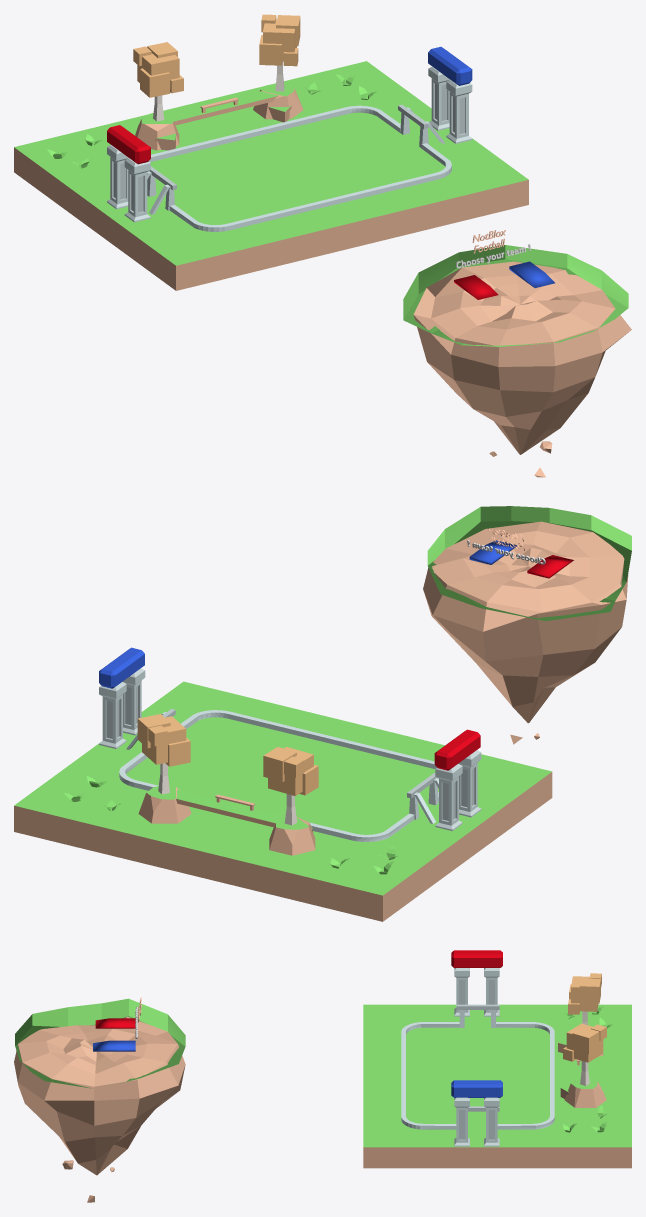
Rendered from Stadium.glb.
3 renders of one model, top to bottom at view 1: azimuth 30°, elevation 25°; view 2: azimuth 150°, elevation 25°; view 3: azimuth 270°, elevation 25°, orthographic. The views are drawn at different scales.
Parts seen in each view (by area): view 1: cliff_blockQuarter_rock.002, Island, Green_platform, wall-round, tree_blocks_fall.001, tree_blocks_fall.002, statue_column.003, statue_column.001, cliff_blockQuarter_rock.001, statue_column.002, statue_column, Cube.003 (+4 smaller); view 2: cliff_blockQuarter_rock.002, Island, Green_platform, wall-round, tree_blocks_fall.001, tree_blocks_fall.002, cliff_blockQuarter_rock.001, rock_smallD, statue_column, rock_smallD.001, statue_column.002, statue_column.003 (+6 smaller); view 3: cliff_blockQuarter_rock.002, Island, Green_platform, wall-round, tree_blocks_fall.002, tree_blocks_fall.001, Cube.013, Cube.003, rock_smallD.001, statue_column, statue_column.001, statue_column.003 (+3 smaller).
Boxes of the visible parts, x1,y1,x2,y2 form: cliff_blockQuarter_rock.002: (14,61,528,290); Island: (413,261,631,477); Green_platform: (403,245,628,346); wall-round: (149,105,451,231); tree_blocks_fall.001: (133,42,183,121); tree_blocks_fall.002: (259,14,300,91); statue_column.003: (124,158,150,222); statue_column.001: (446,79,472,143); cliff_blockQuarter_rock.001: (168,91,278,125); statue_column.002: (107,145,128,209); statue_column: (428,66,449,130); Cube.003: (428,46,472,85); cliff_blockQuarter_rock.002: (14,681,552,921); Island: (423,521,628,744); Green_platform: (427,506,631,621); wall-round: (119,710,438,841); tree_blocks_fall.001: (263,747,318,825); tree_blocks_fall.002: (137,714,190,794); cliff_blockQuarter_rock.001: (176,789,285,827); rock_smallD: (269,816,315,855); statue_column: (99,682,126,748); rock_smallD.001: (138,785,191,823); statue_column.002: (435,764,462,830); statue_column.003: (458,750,481,817); cliff_blockQuarter_rock.002: (363,1004,631,1168); Island: (14,1016,185,1202); Green_platform: (15,998,185,1088); wall-round: (401,1022,554,1129); tree_blocks_fall.002: (563,1023,606,1085); tree_blocks_fall.001: (568,973,601,1025); Cube.013: (451,950,502,967); Cube.003: (451,1080,502,1097); rock_smallD.001: (564,1078,606,1107); statue_column: (484,1097,499,1146); statue_column.001: (454,1097,469,1146); statue_column.003: (454,968,469,1016).
Bounding box in the file's own units: 305 × 190 × 558.
